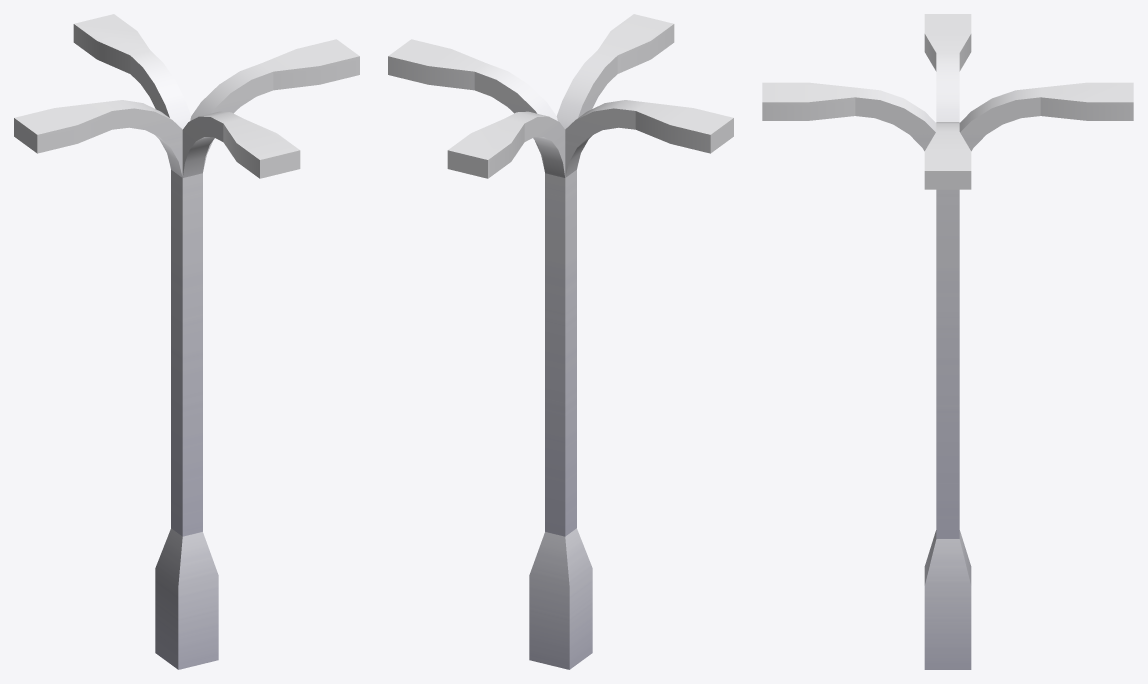
The model's file is light-curved-cross.fbx.
3 renders of one model, left to right at view 1: azimuth 30°, elevation 25°; view 2: azimuth 150°, elevation 25°; view 3: azimuth 270°, elevation 25°, orthographic.
Parts seen in each view (by area): view 1: light-curved-cross; view 2: light-curved-cross; view 3: light-curved-cross.
Part boxes in pixels (box(x1,y1,x2,y2)): light-curved-cross: box(14, 14, 359, 669); light-curved-cross: box(388, 14, 733, 669); light-curved-cross: box(762, 14, 1133, 669).
Size of the model in its own units: 0.4 by 0.675 by 0.4.
